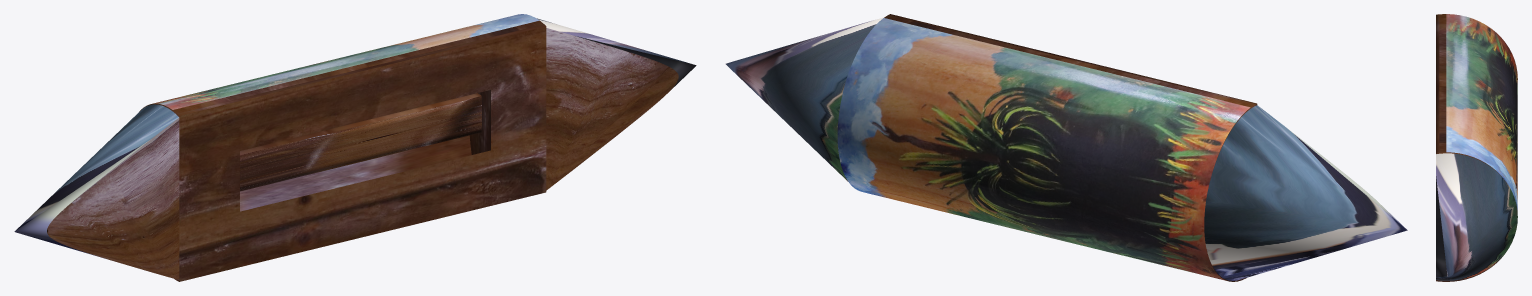
The model's file is shield.fbx.
The picture shows the model from 3 angles, left to right: view 1: azimuth 30°, elevation 25°; view 2: azimuth 150°, elevation 25°; view 3: azimuth 270°, elevation 25°; orthographic projection. The views are drawn at different scales.
Parts seen in each view (by area): view 1: object; view 2: object; view 3: object.
Part boxes in pixels (left/top/right/bottom): object: left=14, top=14, right=696, bottom=281; object: left=725, top=14, right=1407, bottom=281; object: left=1436, top=14, right=1517, bottom=281.
Size of the model in its own units: 847 by 199 by 114.
